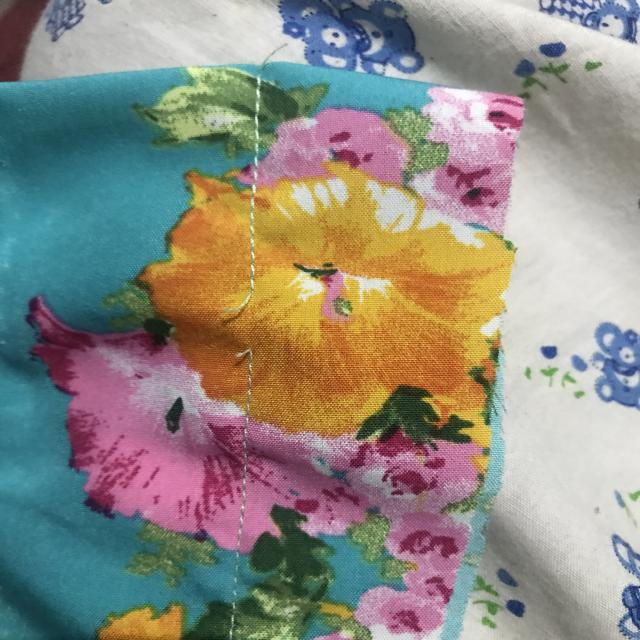broken: (210, 267, 270, 385)
